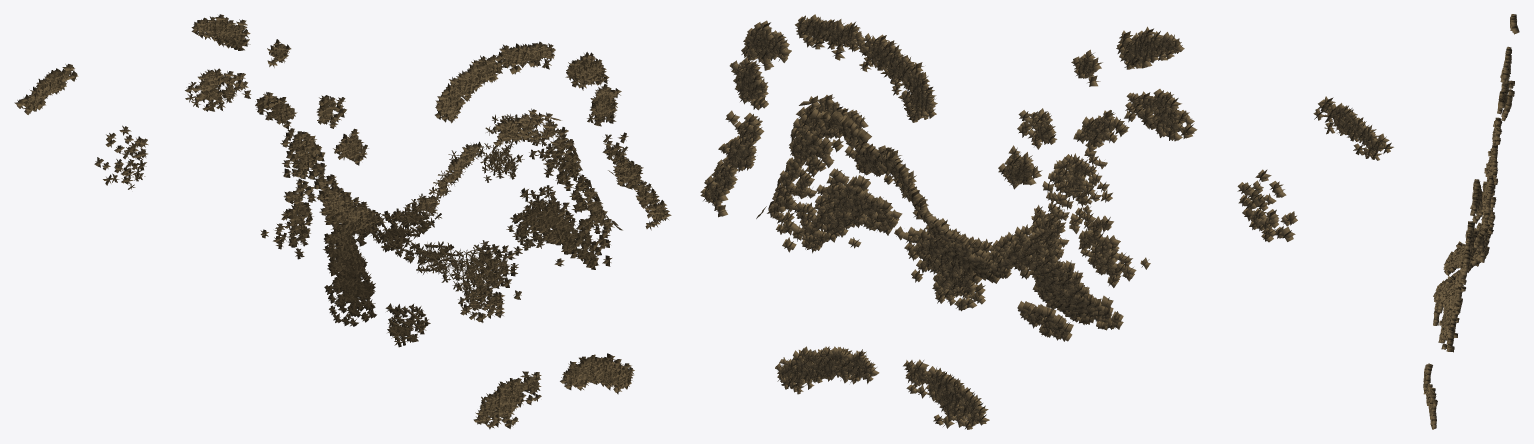
The picture shows the model from 3 angles, left to right: view 1: azimuth 30°, elevation 25°; view 2: azimuth 150°, elevation 25°; view 3: azimuth 270°, elevation 25°; orthographic projection. The views are drawn at different scales.
Size of the model in its own units: 211 by 141 by 45.47.
Materials: 1 (1 with a texture image).
